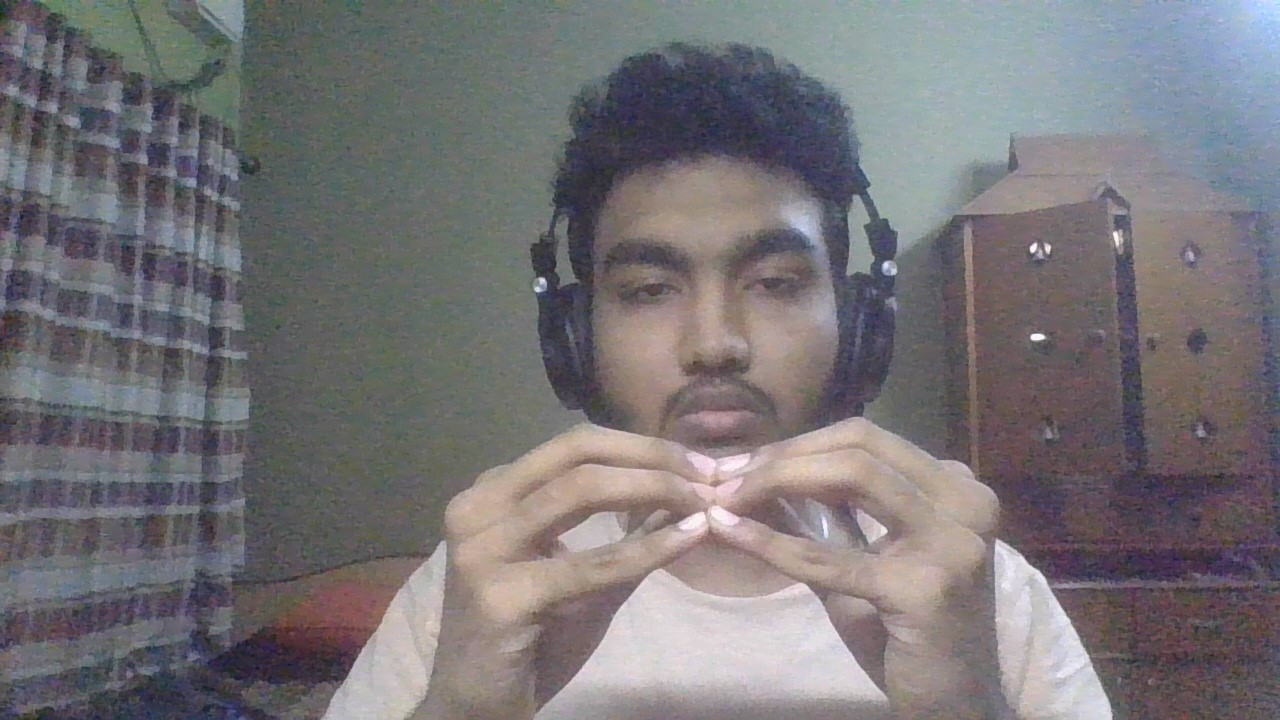More: (418, 413, 1014, 720)
